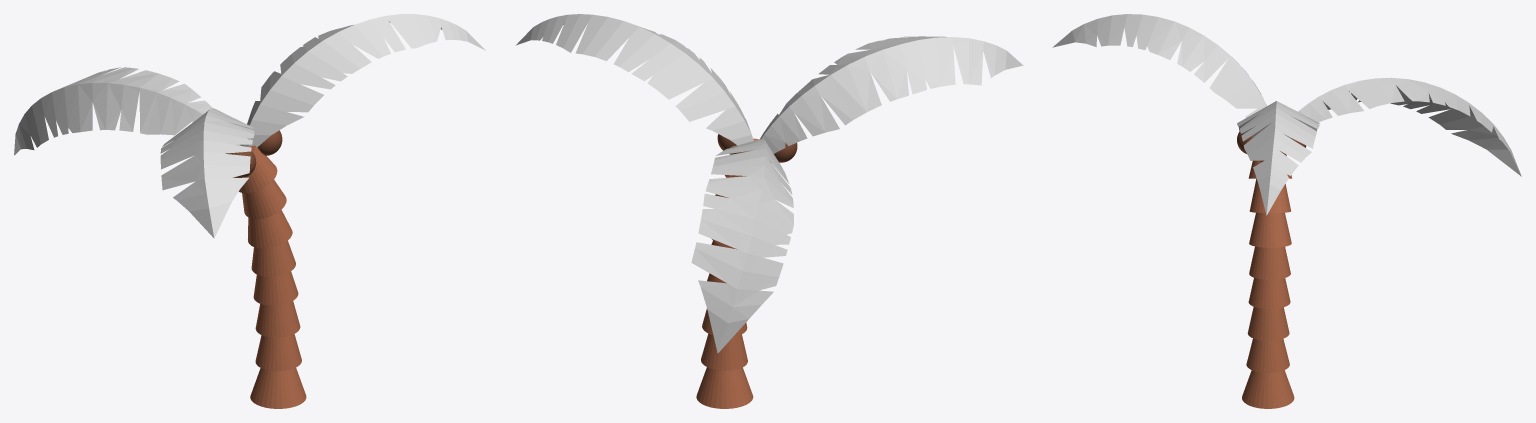
File: PalmTree.fbx
3 renders of one model, left to right at view 1: azimuth 30°, elevation 25°; view 2: azimuth 150°, elevation 25°; view 3: azimuth 270°, elevation 25°, orthographic. The views are drawn at different scales.
Parts seen in each view (by area): view 1: Cylinder.002, Cylinder; view 2: Cylinder.002, Cylinder; view 3: Cylinder.002, Cylinder.
Part boxes in pixels (x1,y1,x2,y2): Cylinder.002: (14,14,485,238); Cylinder: (233,145,306,408); Cylinder.002: (516,14,1023,353); Cylinder: (696,138,770,408); Cylinder.002: (1052,14,1521,215); Cylinder: (1242,154,1294,408).
Size of the model in its own units: 17.66 by 15.1 by 19.58.
5 materials, 4 textured.
